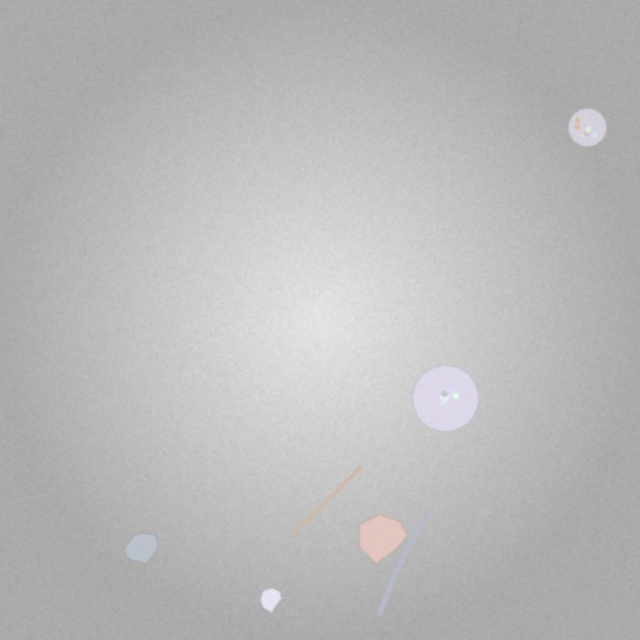fiber: (374, 507, 434, 621), (287, 463, 364, 539)
foam: (412, 366, 478, 431), (569, 109, 607, 146)
fragment: (359, 514, 407, 563), (124, 533, 159, 563), (260, 588, 281, 612)
